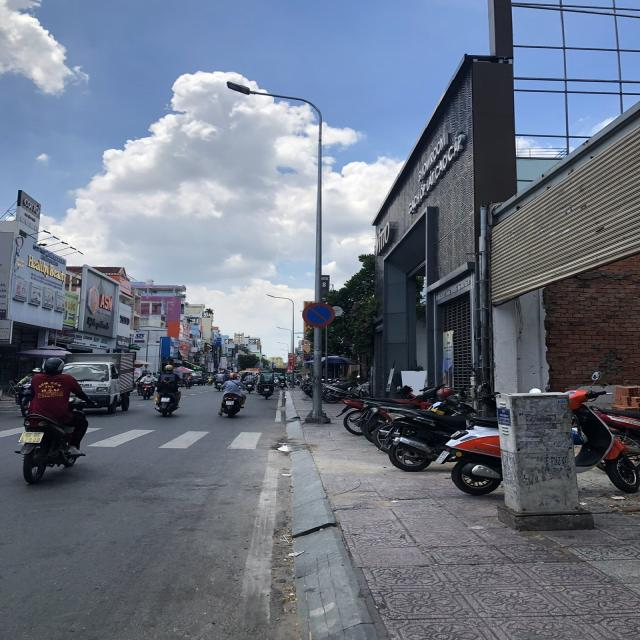Bien bao cam do xe: (300, 300, 337, 327)
